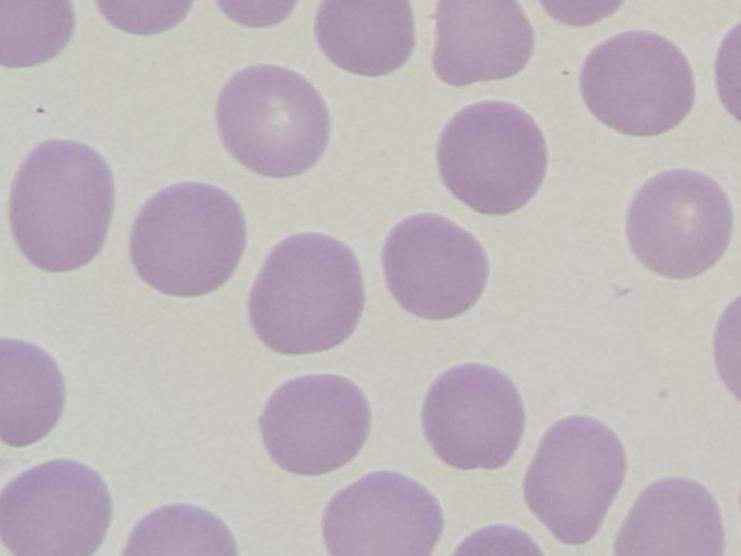Uninfected: (250, 230, 365, 354), (10, 140, 113, 275), (521, 413, 627, 543), (219, 62, 332, 182), (130, 182, 243, 298), (436, 99, 548, 214), (379, 212, 489, 325), (579, 30, 695, 135), (257, 373, 373, 474), (626, 168, 732, 277), (0, 460, 116, 556), (423, 362, 523, 471), (324, 473, 448, 556), (431, 0, 535, 88), (613, 476, 720, 556), (313, 0, 414, 77), (0, 333, 65, 446)
